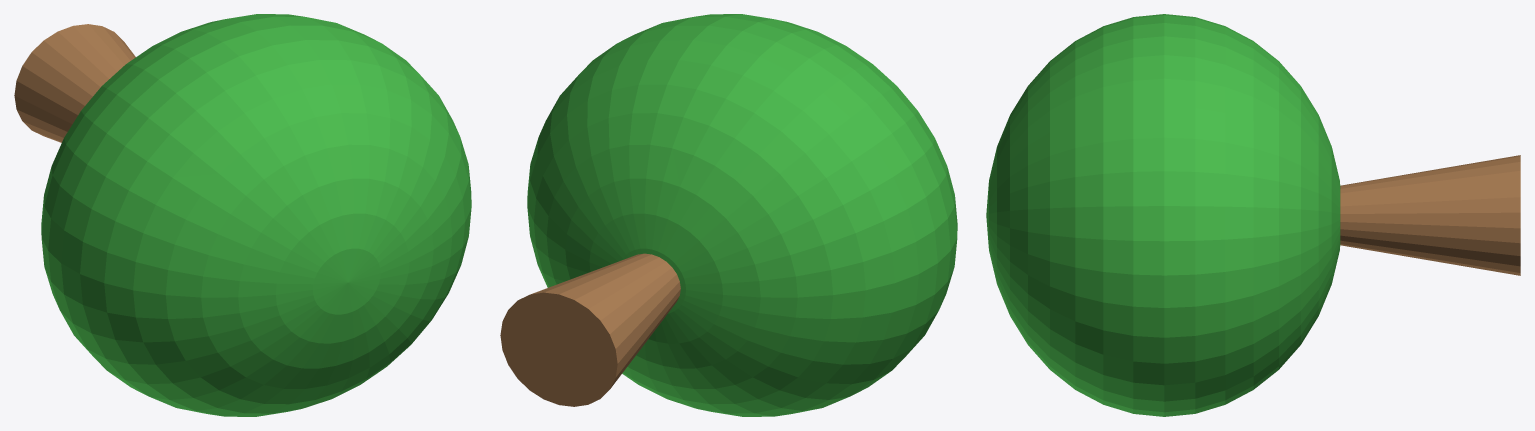
File: tinker.obj
The picture shows the model from 3 angles, left to right: view 1: azimuth 30°, elevation 25°; view 2: azimuth 150°, elevation 25°; view 3: azimuth 270°, elevation 25°; orthographic projection. The views are drawn at different scales.
Visible parts, largest first — view 1: group_0_4634441, group_0_11107152; view 2: group_0_4634441, group_0_11107152; view 3: group_0_4634441, group_0_11107152.
Boxes of the visible parts, <box> form: group_0_4634441: <box>41,14,471,416</box>; group_0_11107152: <box>14,24,135,142</box>; group_0_4634441: <box>527,14,957,416</box>; group_0_11107152: <box>500,253,680,406</box>; group_0_4634441: <box>986,14,1340,416</box>; group_0_11107152: <box>1340,155,1520,275</box>.
Size of the model in its own units: 41 by 37 by 50.
